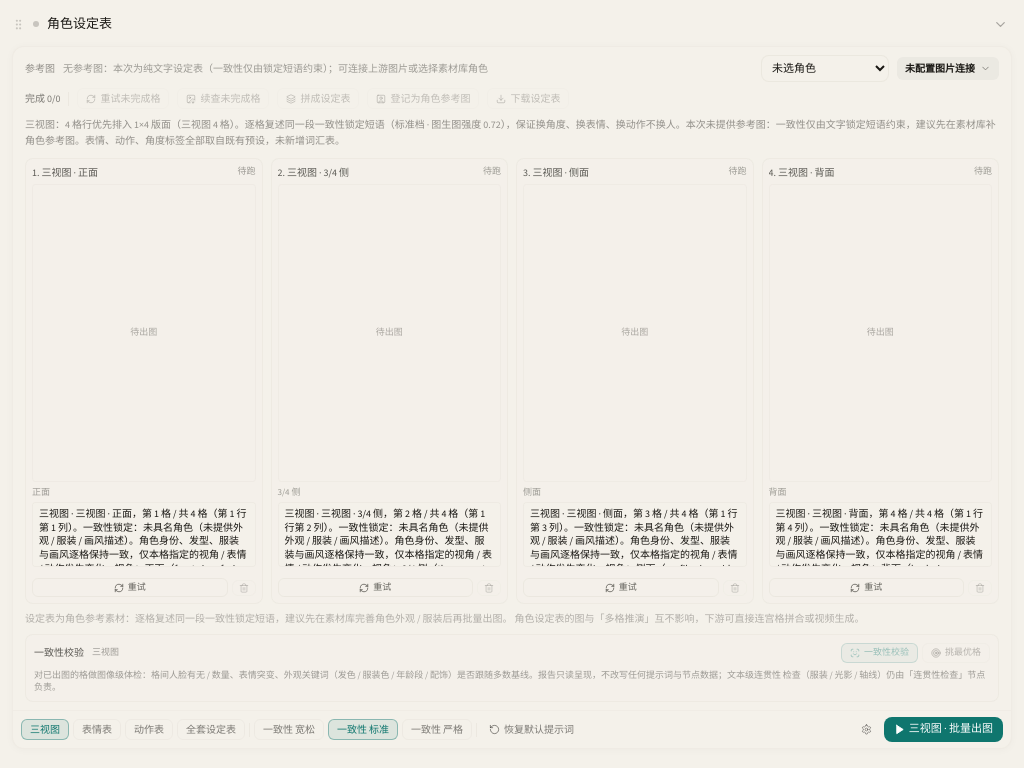
Test: CharacterSheetWorkspace：逐格提示词编辑 › 改编排后再切版面：旧改写不被沿用（计划回到按参数实时生成）
Replace the text in the 1st text box titled "编辑后该格按此文本出图（中英同源）" with "三视图专属改写": {"x": 144, "y": 534} [32,502,256,567]
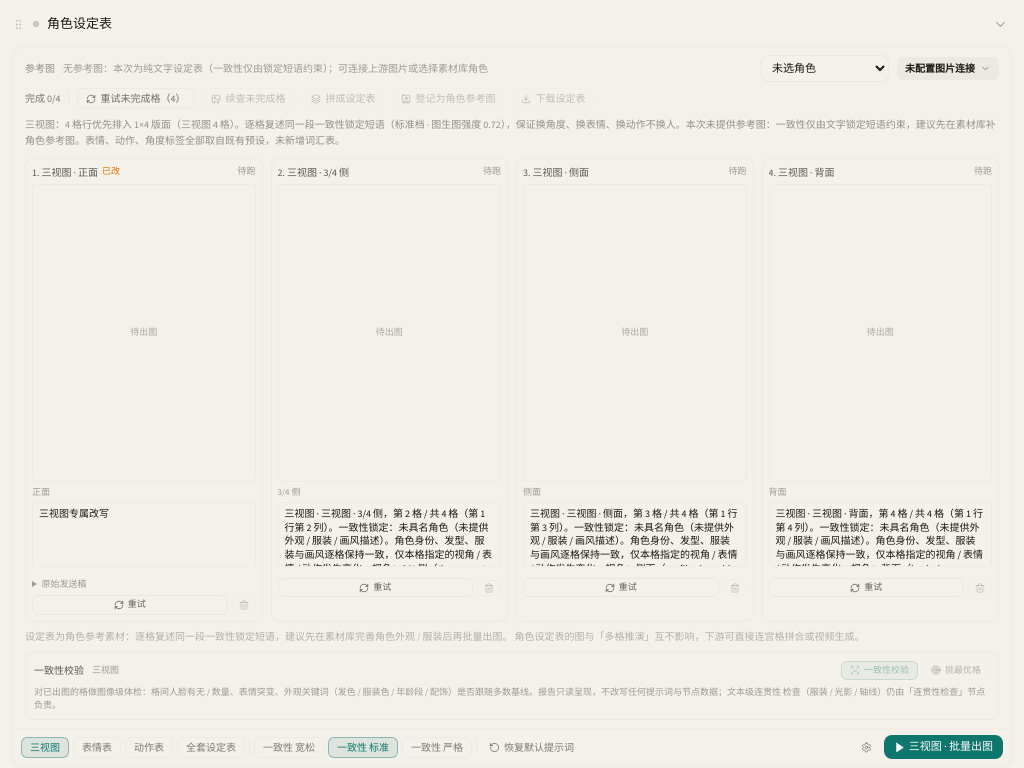
Check: the text "已改" is shown, box [102,165,120,179]
Click the button "表情表": {"x": 97, "y": 747} [73,737,121,758]
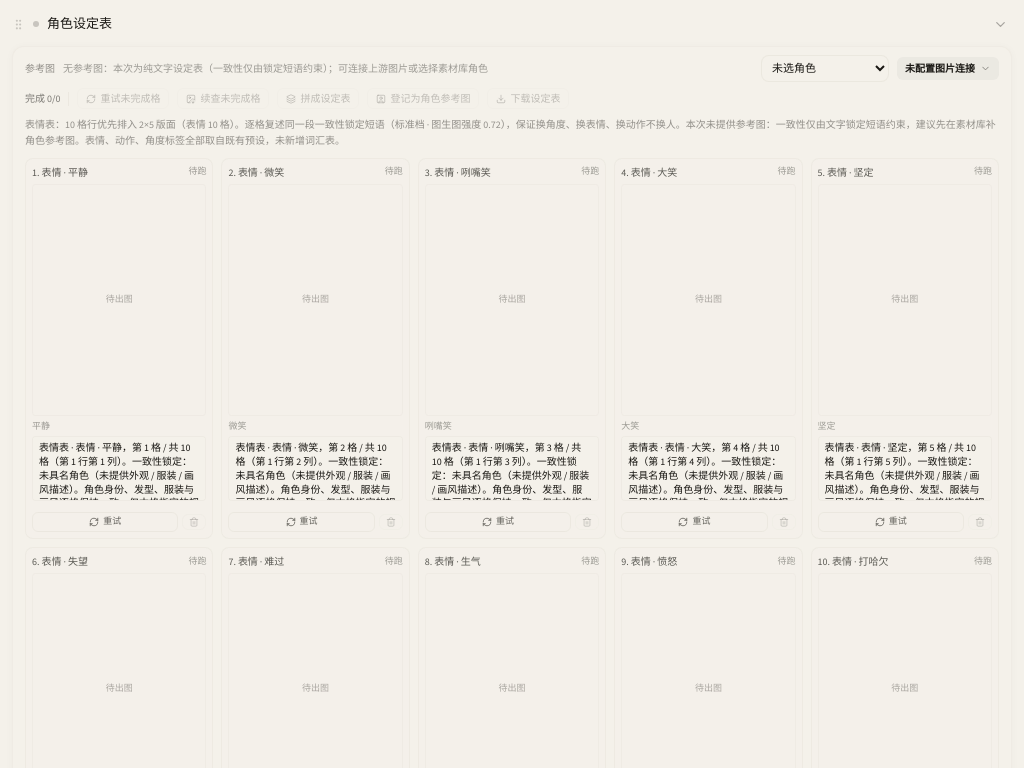
Check: the text "已改" is gone
